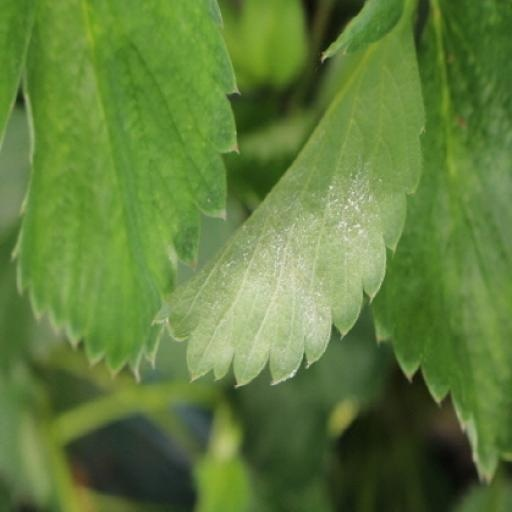Powdery Mildew Leaf: (150, 122, 428, 506)
